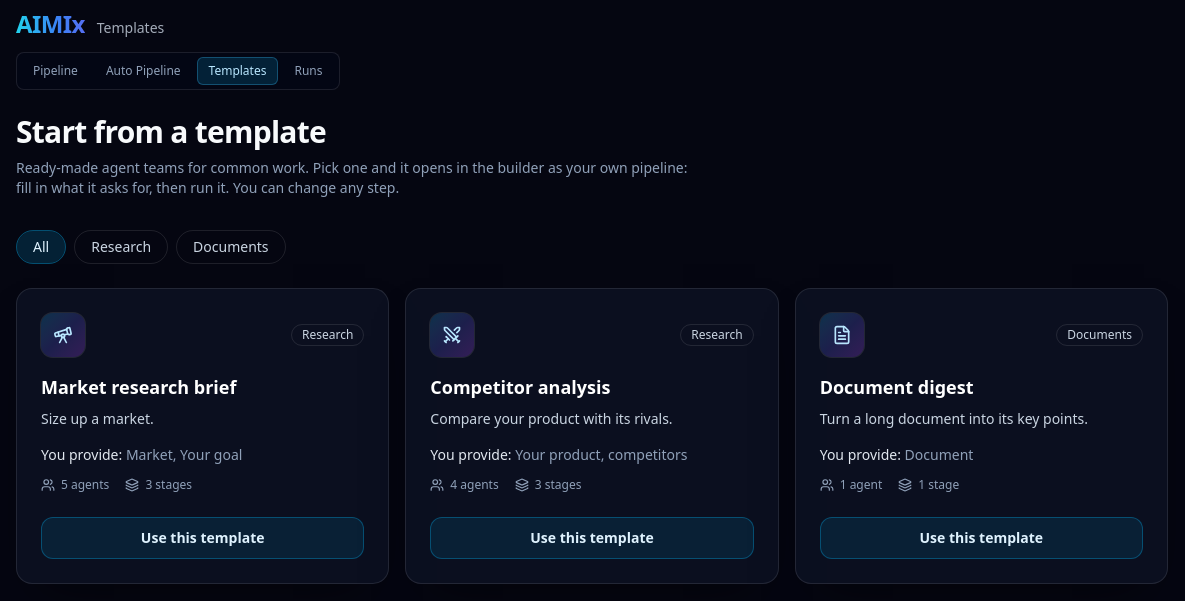
TemplatesPage › filters the gallery by category
Step 1. Click the button "Documents" → (231, 247), box [176,230,286,264]
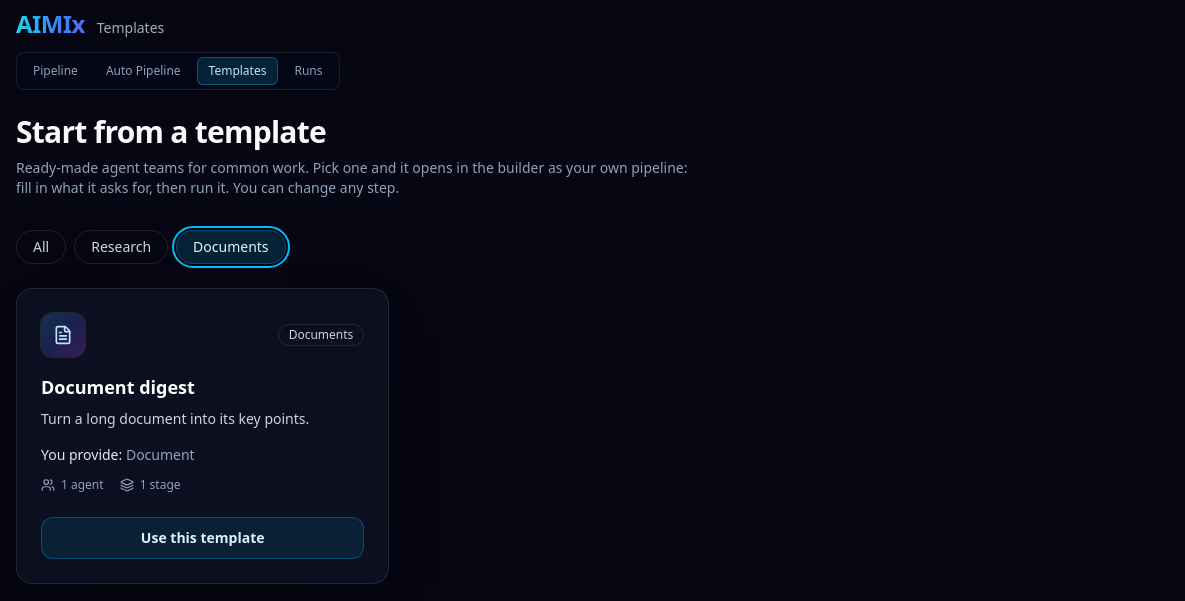
Result: the headings read "Document digest", in this order at [41,375,195,399]
